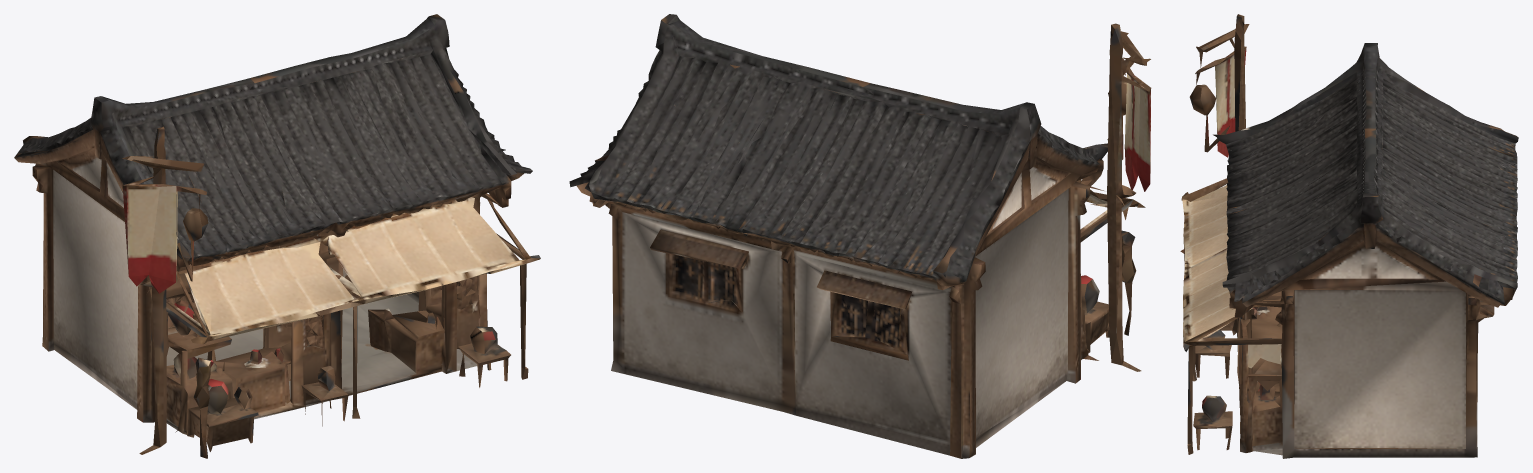
File: 06_Wine_Shop_LOD2.fbx
3 renders of one model, left to right at view 1: azimuth 30°, elevation 25°; view 2: azimuth 150°, elevation 25°; view 3: azimuth 270°, elevation 25°, orthographic. The views are drawn at different scales.
Parts seen in each view (by area): view 1: 06_Wine_Shop_L2; view 2: 06_Wine_Shop_L2; view 3: 06_Wine_Shop_L2.
Part boxes in pixels (<box>): 06_Wine_Shop_L2: <box>14,14,540,458</box>; 06_Wine_Shop_L2: <box>569,14,1151,458</box>; 06_Wine_Shop_L2: <box>1180,14,1518,458</box>.
Size of the model in its own units: 7.65 by 5.8 by 6.03.
